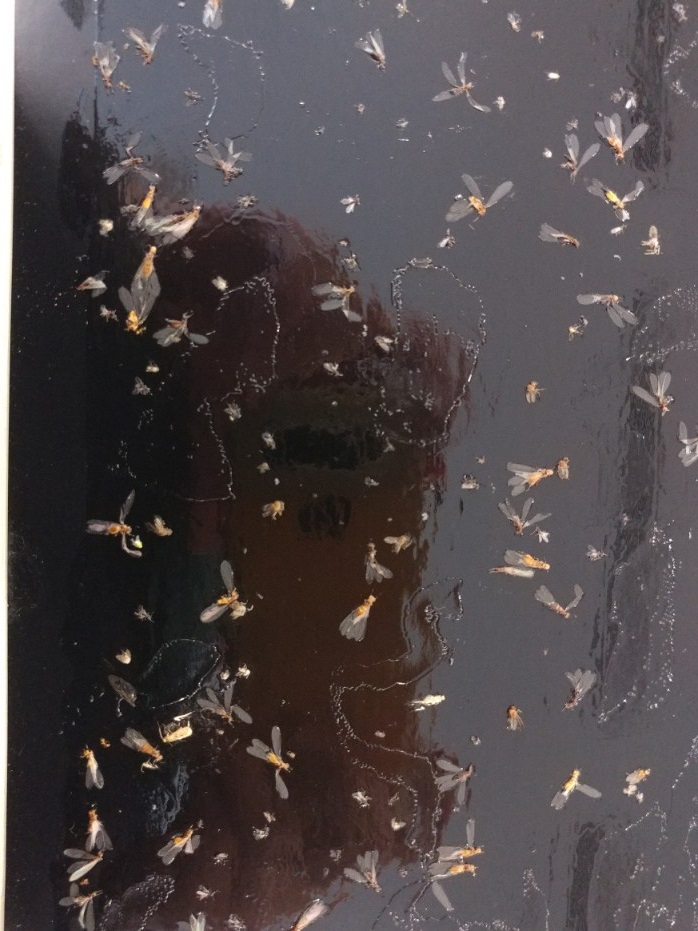flying termite: (242, 723, 300, 785), (497, 456, 561, 497), (503, 543, 560, 584)
